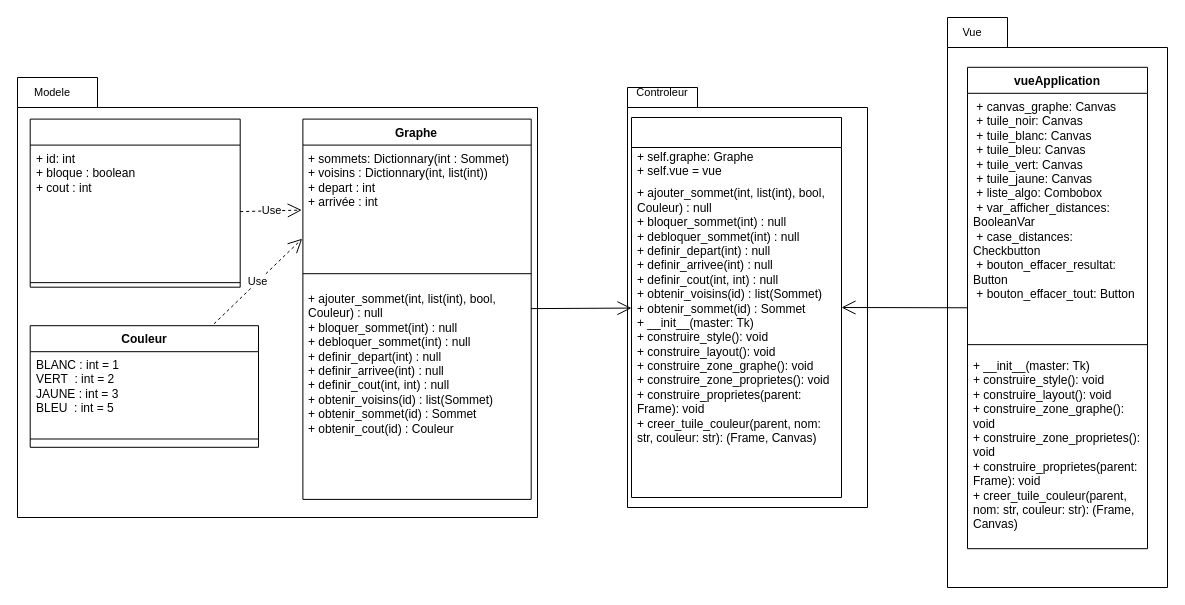
Image size: 1185x605. Some labels were removed from this diagram. Each missing label, with the box of its shape:
ControleurGraphe: (630, 116, 842, 498)
Sommet: (29, 118, 240, 287)
